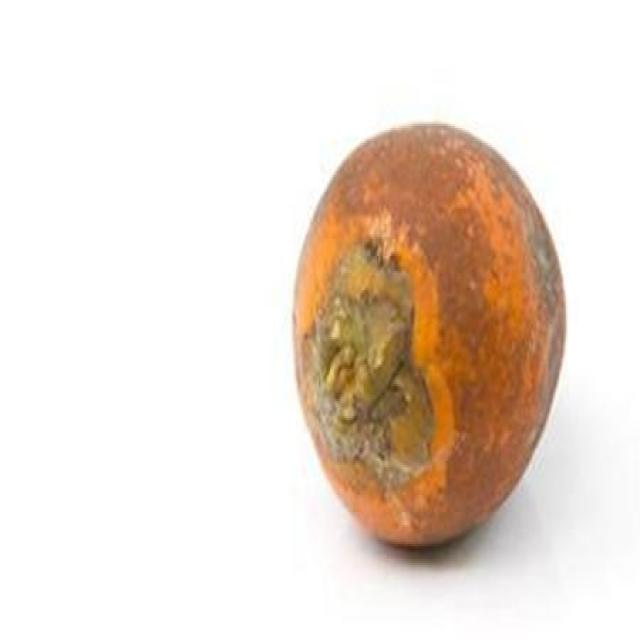good: (292, 124, 567, 553)
